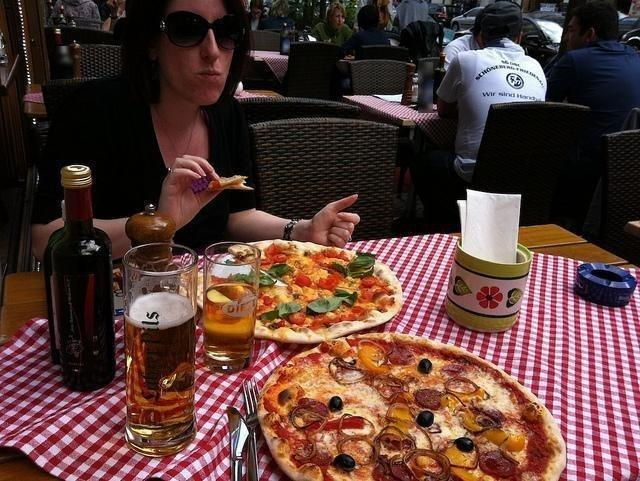bottle-glass: (47, 162, 115, 391)
glass-normal: (122, 241, 199, 456), (203, 239, 260, 374)
